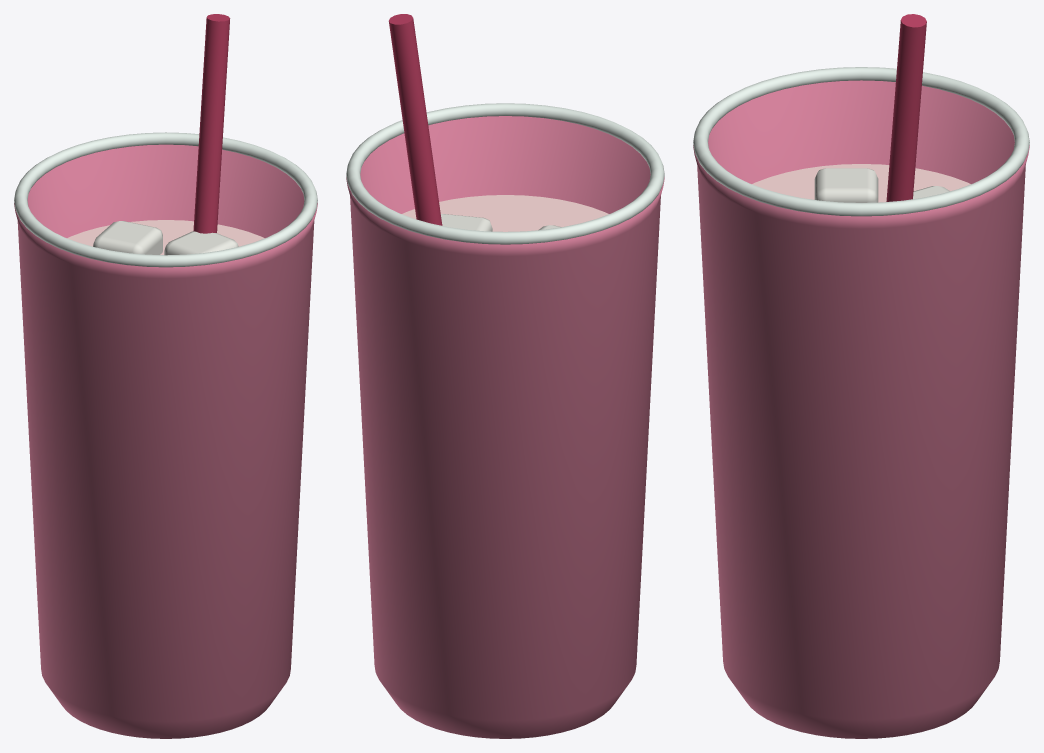
3 views of the same model, side by side, from view 1: azimuth 30°, elevation 25°; view 2: azimuth 150°, elevation 25°; view 3: azimuth 270°, elevation 25° (orthographic). The views are drawn at different scales.
Parts seen in each view (by area): view 1: Glass, Straw, Ice, Drink; view 2: Glass, Straw, Drink, Ice; view 3: Glass, Straw, Drink, Ice.
Boxes of the visible parts, x1,y1,x2,y2 form: Glass: (14,132,317,738); Straw: (193,14,230,233); Ice: (93,221,238,255); Drink: (67,220,264,254); Glass: (346,103,664,738); Straw: (388,14,442,225); Drink: (402,195,608,231); Ice: (440,214,561,231); Glass: (693,67,1029,738); Straw: (886,14,926,201); Drink: (752,164,970,202); Ice: (814,168,949,202).
Size of the model in its own units: 0.09 by 0.2094 by 0.09.
